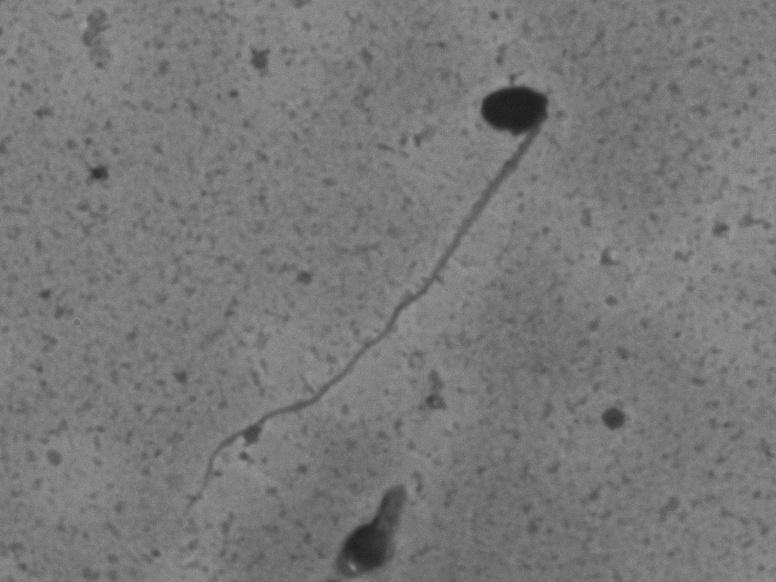Abnormal: (151, 71, 586, 515)
